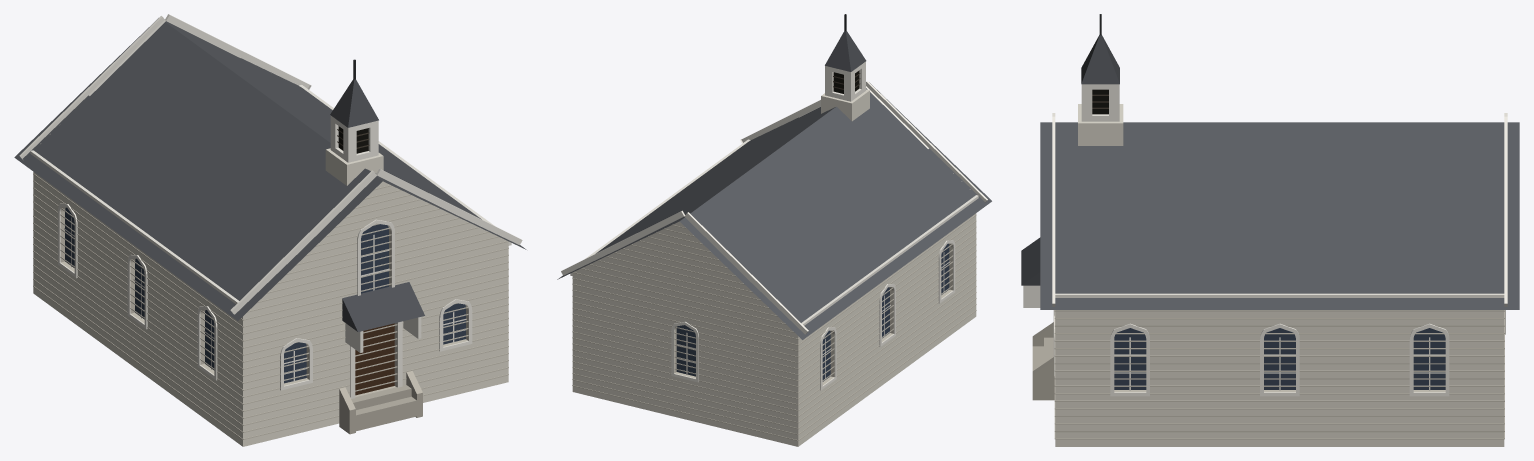
File: ch-ward-chapel-1913.glb
3 renders of one model, left to right at view 1: azimuth 30°, elevation 25°; view 2: azimuth 150°, elevation 25°; view 3: azimuth 270°, elevation 25°, orthographic. The views are drawn at different scales.
Parts seen in each view (by area): view 1: ch_roof, ch_brick, ch_brick2, ch_trim, ch_stain, ch_roof2, ch_conc, ch_door; view 2: ch_brick, ch_roof, ch_brick2, ch_trim, ch_stain, ch_roof2; view 3: ch_roof, ch_brick, ch_brick2, ch_trim, ch_stain, ch_roof2, ch_conc.
Boxes of the visible parts, x1,y1,x2,y2 form: ch_roof: [14, 18, 526, 320]; ch_brick: [33, 148, 508, 446]; ch_brick2: [33, 134, 508, 439]; ch_trim: [19, 14, 522, 398]; ch_stain: [65, 207, 465, 383]; ch_roof2: [330, 79, 424, 331]; ch_conc: [339, 371, 422, 434]; ch_door: [355, 323, 394, 395]; ch_brick: [572, 89, 976, 446]; ch_roof: [557, 82, 991, 339]; ch_brick2: [572, 173, 976, 440]; ch_trim: [561, 61, 987, 390]; ch_stain: [676, 243, 949, 381]; ch_roof2: [825, 31, 866, 71]; ch_roof: [1040, 122, 1519, 309]; ch_brick: [1055, 104, 1504, 446]; ch_brick2: [1054, 310, 1504, 439]; ch_trim: [1023, 84, 1507, 396]; ch_stain: [1114, 328, 1445, 389]; ch_roof2: [1021, 35, 1119, 285]; ch_conc: [1032, 322, 1054, 400].
Size of the model in its own units: 9.53 by 10.72 by 13.2.
